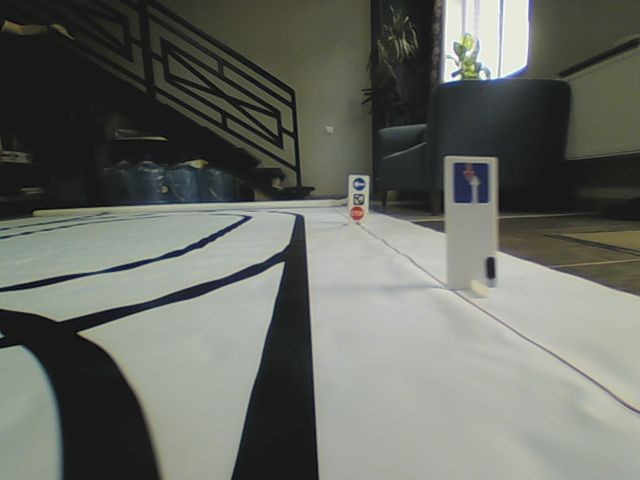priority_movement: (452, 162, 488, 204)
